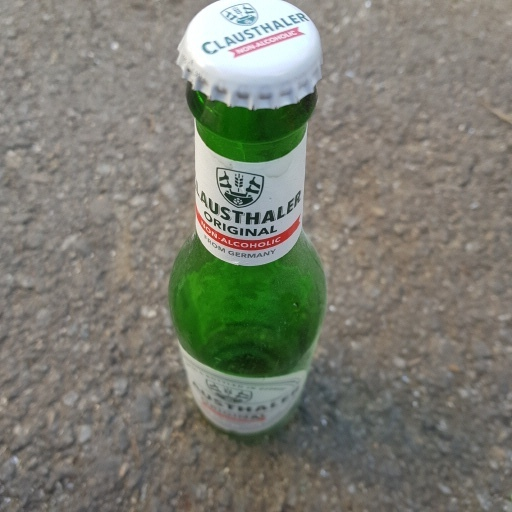Glass_1: (174, 1, 328, 439)
